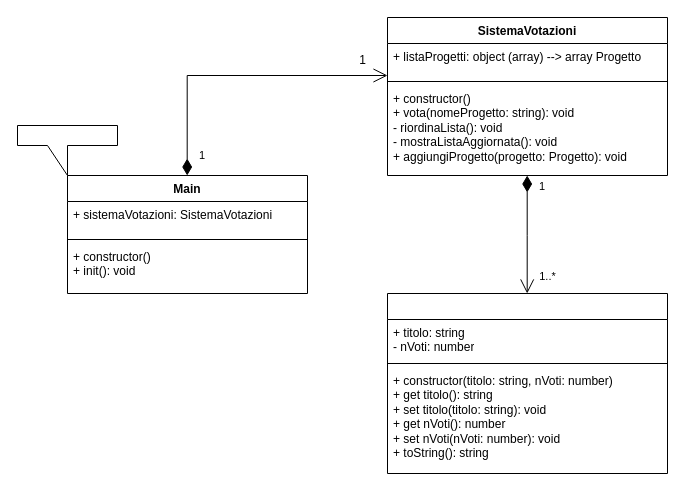
This 685x494 diagram has some shape labels left out. The shapes that lost their labels are listed below. From the top down, each one's box as (x1, y1, x2, y2) in pixels, then its label:
(16, 124, 118, 176): Inizio operazioni
(386, 292, 668, 474): Progetto
